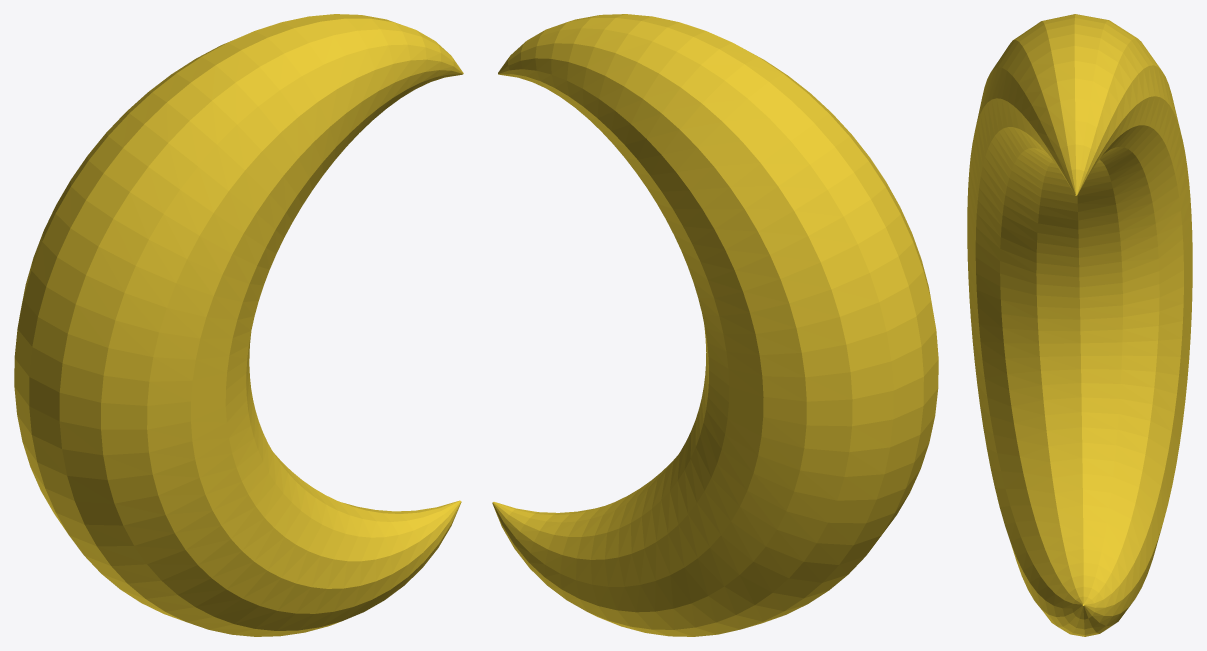
Rendered from moon.glb.
3 renders of one model, left to right at view 1: azimuth 30°, elevation 25°; view 2: azimuth 150°, elevation 25°; view 3: azimuth 270°, elevation 25°, orthographic. The views are drawn at different scales.
Parts seen in each view (by area): view 1: NurbsPath.001; view 2: NurbsPath.001; view 3: NurbsPath.001.
Part boxes in pixels (x1=…): NurbsPath.001: x1=14, y1=14, x2=463, y2=636; NurbsPath.001: x1=492, y1=14, x2=938, y2=636; NurbsPath.001: x1=967, y1=14, x2=1192, y2=636.
Size of the model in its own units: 3.18 by 4.23 by 1.51.
